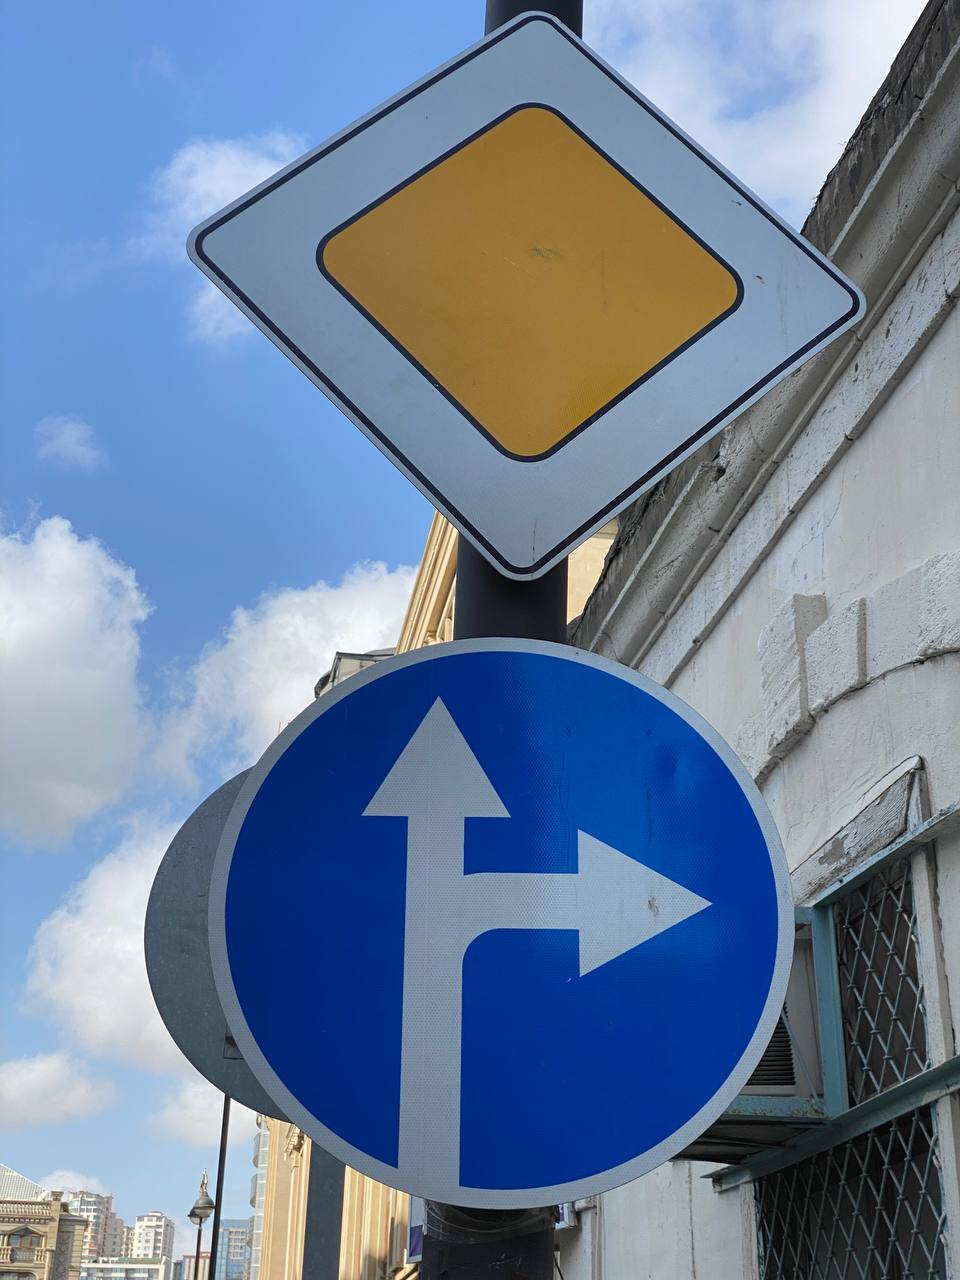Main Road: (184, 12, 866, 583)
Straight or Right: (209, 636, 796, 1212)
